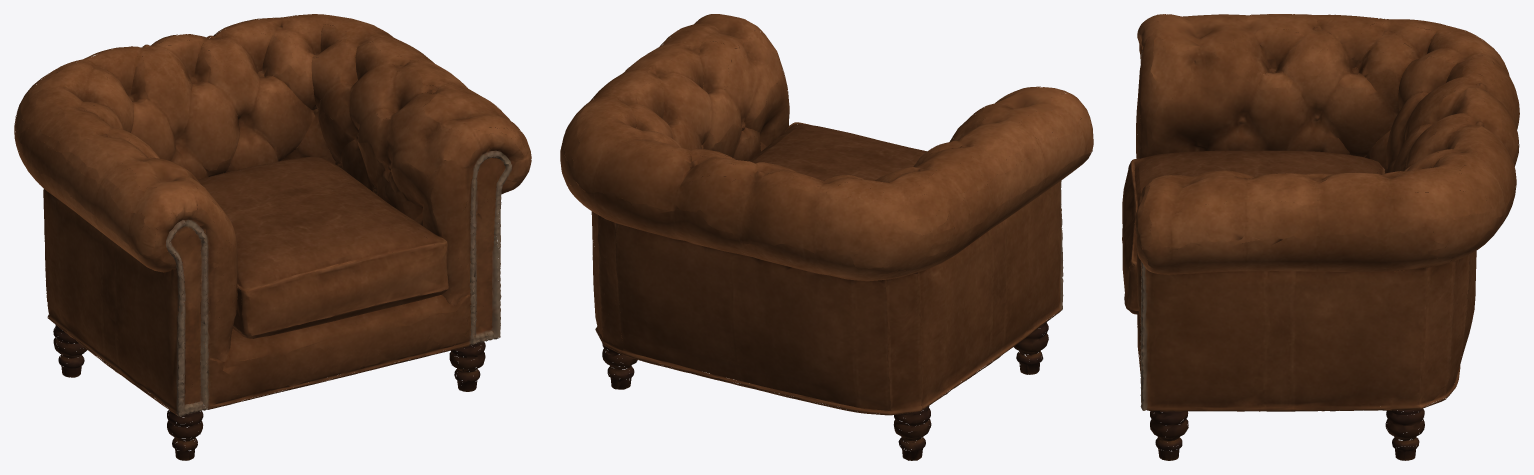
The model's file is club-chair.glb.
3 views of the same model, side by side, from view 1: azimuth 30°, elevation 25°; view 2: azimuth 150°, elevation 25°; view 3: azimuth 270°, elevation 25° (orthographic). The views are drawn at different scales.
Parts seen in each view (by area): view 1: Cognac Club Chair; view 2: Cognac Club Chair; view 3: Cognac Club Chair.
Part boxes in pixels (<box>): Cognac Club Chair: <box>14,14,531,460</box>; Cognac Club Chair: <box>560,14,1093,460</box>; Cognac Club Chair: <box>1122,14,1519,460</box>.
Bounding box in the file's own units: 1.25 × 0.8458 × 1.05.
Materials: 1 (1 with a texture image).
